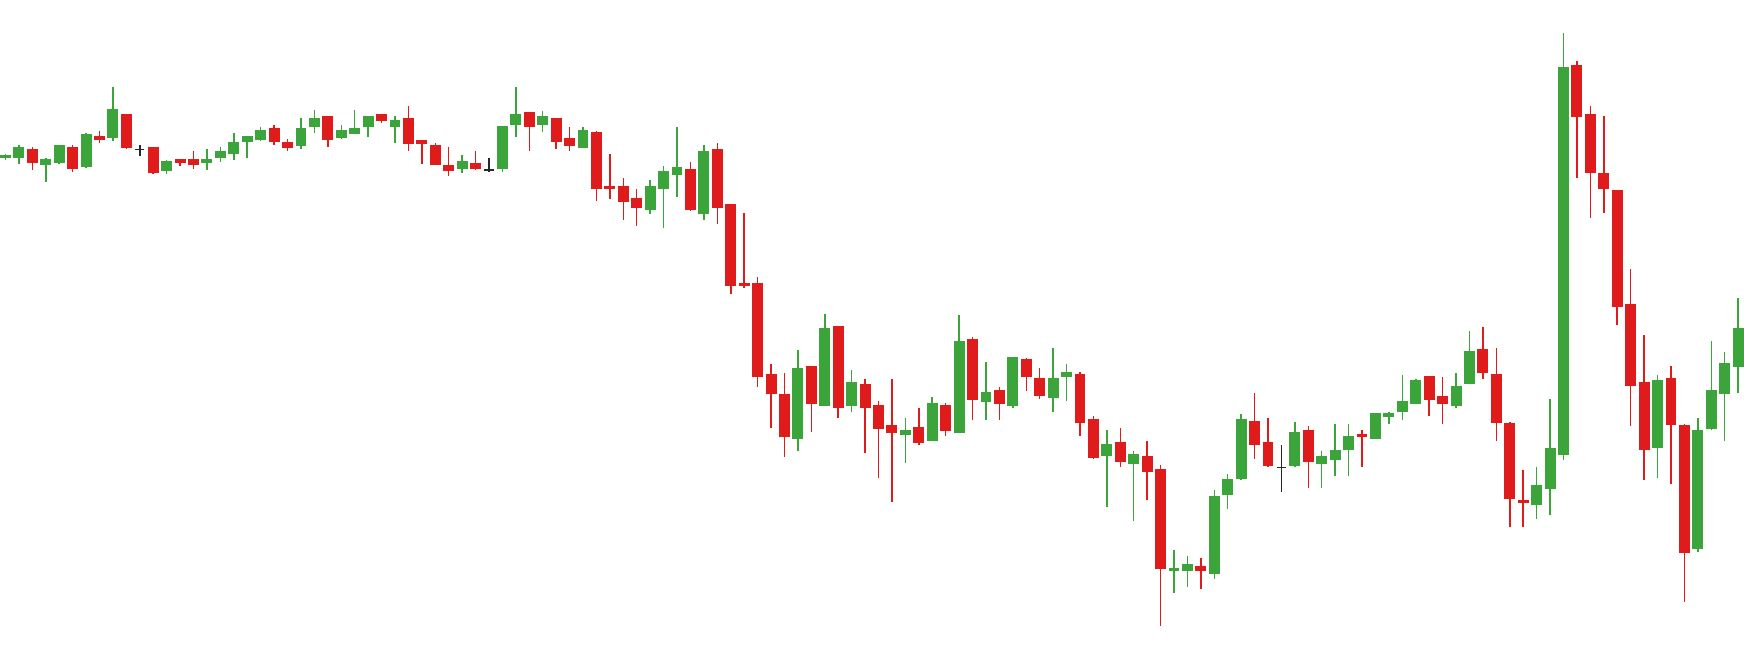buy: (1277, 416, 1557, 528)
sell: (402, 82, 537, 154)
